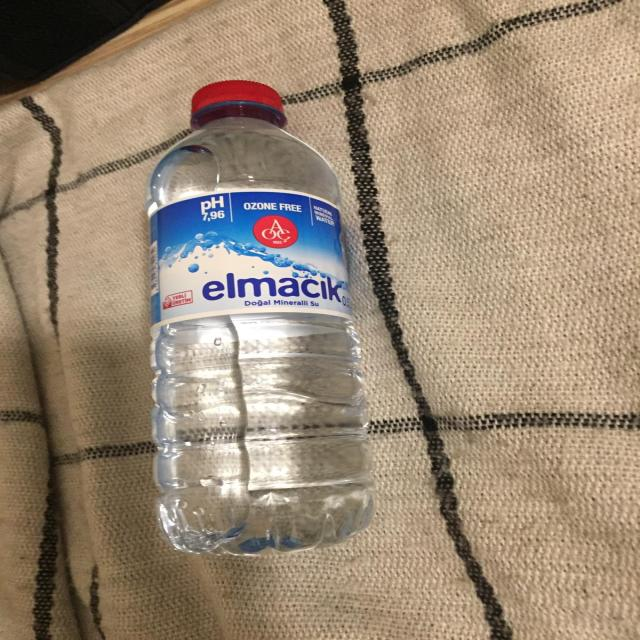bottle: (139, 79, 377, 558)
